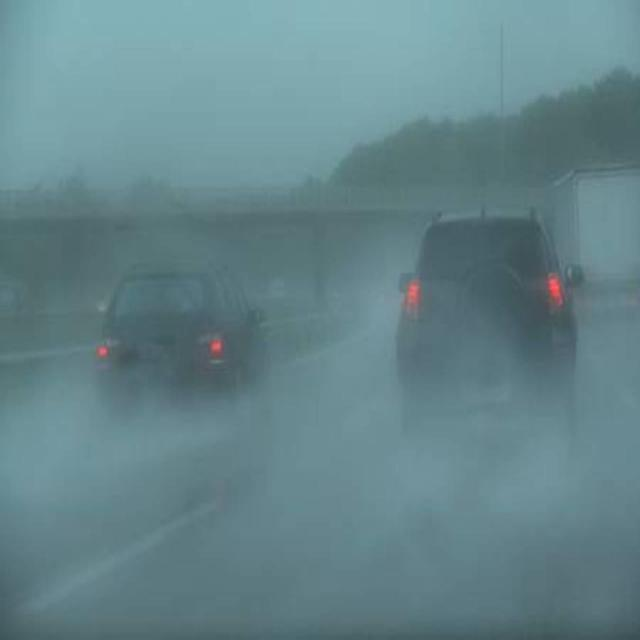Car: (389, 203, 593, 440), (84, 264, 276, 471)
